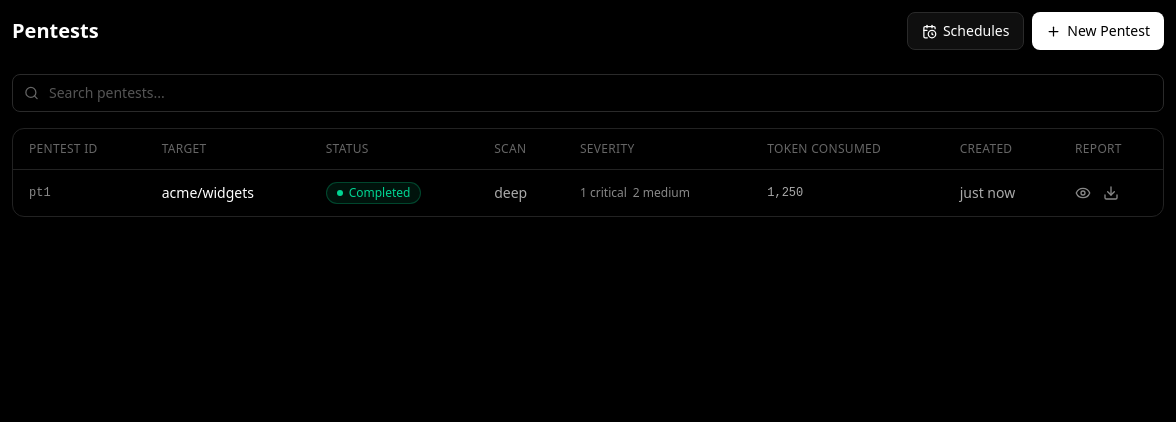
Scenario: PentestsList › renders a completed pentest with its severity summary and filters by search
The image size is (1176, 422).
Check: the link "acme/widgets" is shown, box 162,183 -> 254,202
Check: the text "1 critical" is shown, box 580,185 -> 627,201
In the field with placeholder "Search pentests...": x=588, y=93 12,74 -> 1164,112, type "nonexistent"
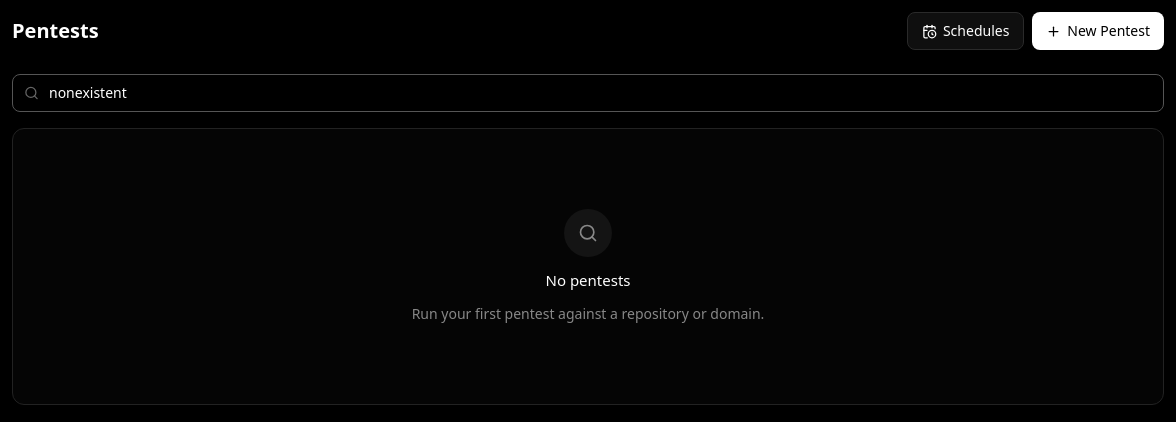
Check: the link "acme/widgets" is gone
